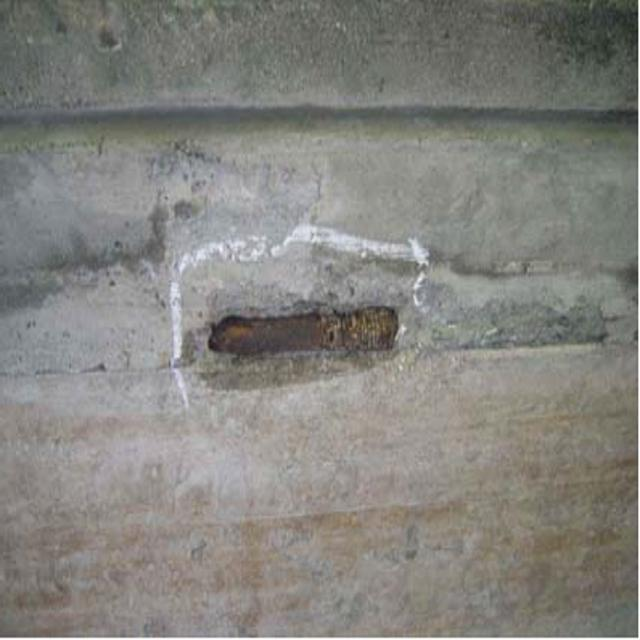corrosion: (182, 276, 414, 388)
